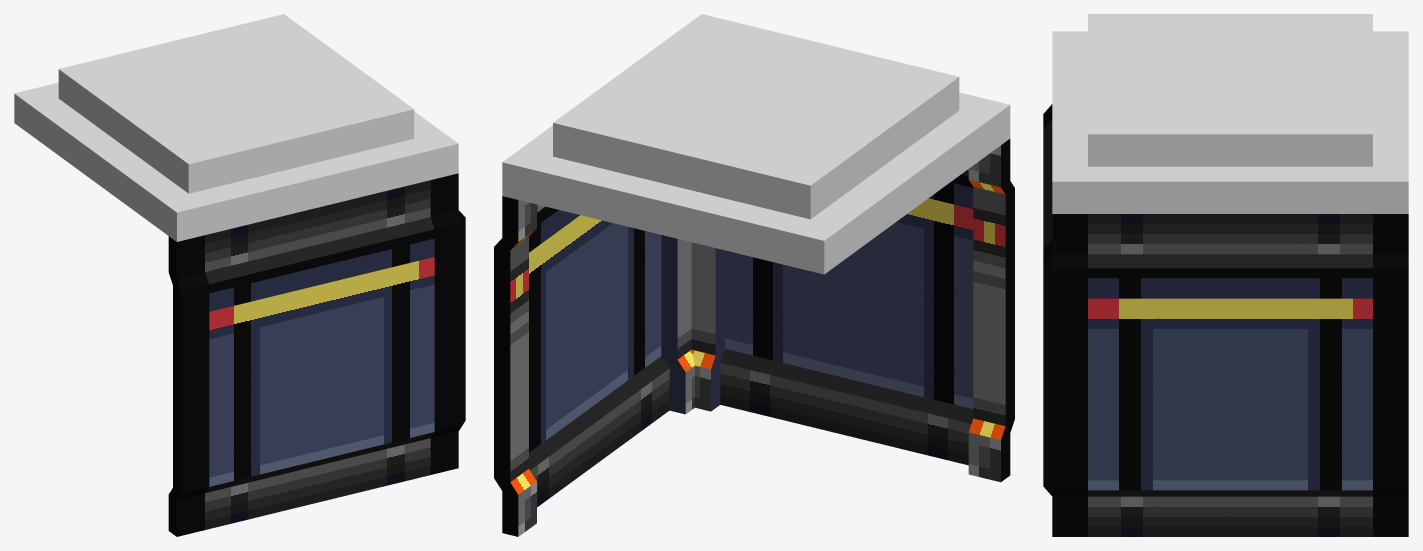
The picture shows the model from 3 angles, left to right: view 1: azimuth 30°, elevation 25°; view 2: azimuth 150°, elevation 25°; view 3: azimuth 270°, elevation 25°; orthographic projection. The views are drawn at different scales.
Visible parts, largest first — view 1: S, Roof, E; view 2: Roof, S, E; view 3: E, Roof, S.
Part boxes in pixels (bbox=[...]): S: bbox=[168, 174, 462, 536]; Roof: bbox=[14, 14, 458, 241]; E: bbox=[444, 173, 465, 471]; Roof: bbox=[502, 14, 1010, 274]; S: bbox=[691, 139, 1014, 482]; E: bbox=[494, 196, 694, 536]; E: bbox=[1052, 214, 1408, 536]; Roof: bbox=[1052, 14, 1408, 213]; S: bbox=[1043, 104, 1069, 536].
Size of the model in its own units: 2.05 by 2.4 by 2.05.
Materials: 2 (1 with a texture image).
